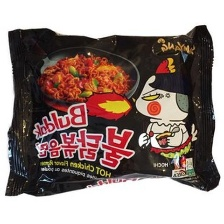snack: (0, 18, 224, 204)
